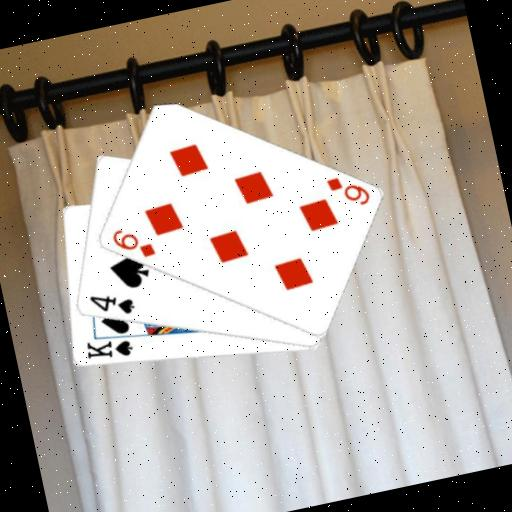4S: (85, 284, 137, 323)
6D: (106, 219, 157, 265), (322, 168, 373, 214)
KS: (80, 330, 135, 367)
